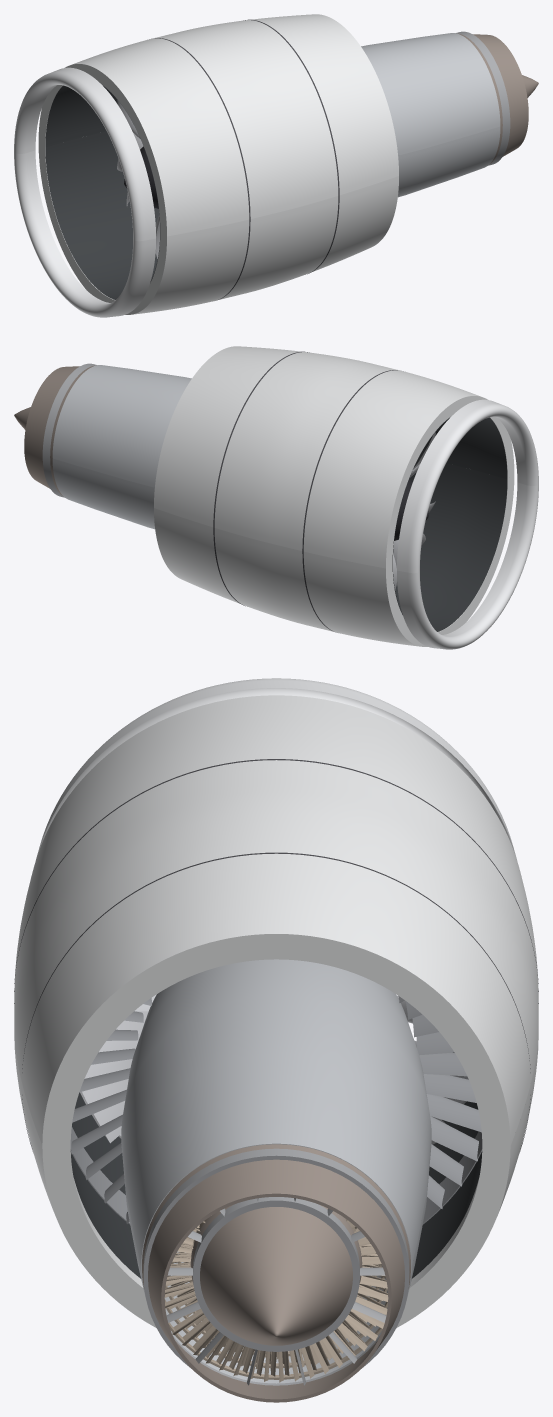
Rendered from turbofan.glb.
3 views of the same model, one above another, from view 1: azimuth 30°, elevation 25°; view 2: azimuth 150°, elevation 25°; view 3: azimuth 270°, elevation 25° (orthographic). The views are drawn at different scales.
Visible parts, largest first — view 1: NacelleUpper, NacelleLower, CoreCowlUpper, FanCaseLinerLower, IntakeLipUpper, IntakeLipLower, CoreCowlLower, Exhaust, FanCaseLinerUpper, TurbineRearFrame, PanelSeamsUpper, FanRotor; view 2: NacelleUpper, NacelleLower, CoreCowlUpper, FanCaseLinerLower, IntakeLipUpper, IntakeLipLower, CoreCowlLower, Exhaust, FanCaseLinerUpper, TurbineRearFrame, PanelSeamsUpper, FanRotor; view 3: NacelleUpper, CoreCowlUpper, Exhaust, NacelleLower, OutletGuideVanes, TurbineRearFrame, IntakeLipUpper, FanCaseLinerLower, LPTStator, LPTRotor, FanRotor, CoreCowlLower (+1 smaller).
Boxes of the visible parts, x1,y1,x2,y2 form: NacelleUpper: [38, 14, 398, 236]; NacelleLower: [38, 143, 398, 314]; CoreCowlUpper: [361, 33, 500, 155]; FanCaseLinerLower: [45, 131, 160, 299]; IntakeLipUpper: [14, 67, 155, 241]; IntakeLipLower: [14, 150, 155, 317]; CoreCowlLower: [398, 126, 500, 197]; Exhaust: [458, 33, 538, 164]; FanCaseLinerUpper: [45, 85, 160, 230]; TurbineRearFrame: [455, 31, 510, 165]; PanelSeamsUpper: [155, 19, 339, 219]; FanRotor: [117, 100, 159, 258]; NacelleUpper: [154, 346, 514, 568]; NacelleLower: [154, 475, 514, 646]; CoreCowlUpper: [52, 365, 191, 487]; FanCaseLinerLower: [392, 456, 507, 631]; IntakeLipUpper: [397, 399, 538, 573]; IntakeLipLower: [397, 482, 538, 649]; CoreCowlLower: [52, 458, 154, 529]; Exhaust: [14, 365, 94, 496]; FanCaseLinerUpper: [392, 417, 507, 562]; TurbineRearFrame: [42, 363, 97, 497]; PanelSeamsUpper: [213, 351, 397, 551]; FanRotor: [393, 432, 435, 590]; NacelleUpper: [14, 695, 538, 1145]; CoreCowlUpper: [121, 959, 431, 1266]; Exhaust: [142, 1144, 410, 1402]; NacelleLower: [14, 1038, 538, 1327]; OutletGuideVanes: [70, 996, 482, 1224]; TurbineRearFrame: [143, 1148, 409, 1385]; IntakeLipUpper: [36, 678, 516, 859]; FanCaseLinerLower: [70, 1052, 482, 1278]; LPTStator: [164, 1225, 387, 1379]; LPTRotor: [165, 1218, 388, 1382]; FanRotor: [80, 994, 468, 1144]; CoreCowlLower: [121, 1139, 431, 1383].
Size of the model in its own units: 4.44 by 2.23 by 2.23.
